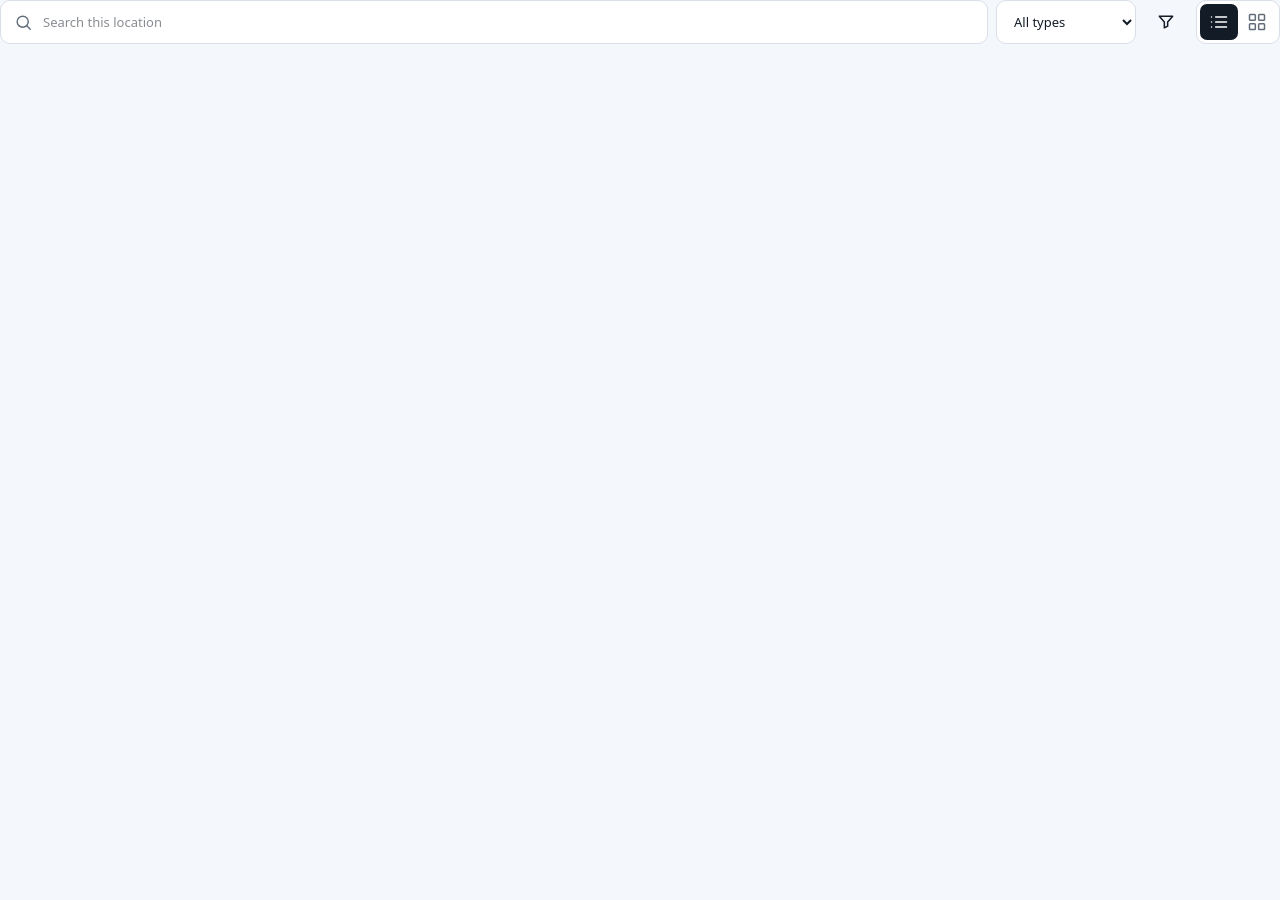
file discovery components › dismisses the centered filter modal without applying its draft
Click the button named "more filters" at (1166, 22), box [1144,0,1188,44]
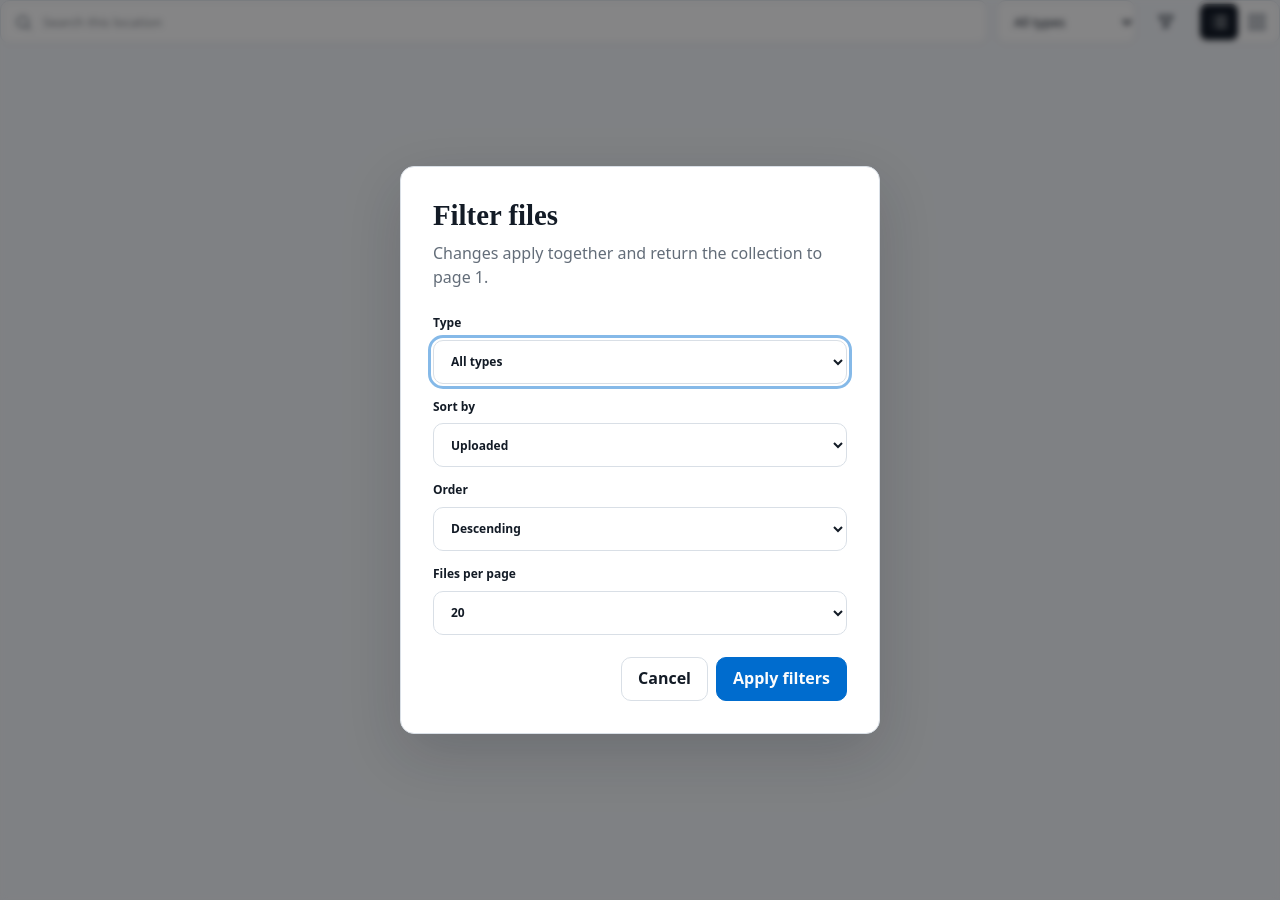
Select "10" in the dropdown labelled "Files per page" at (640, 612), box [433,590,847,634]
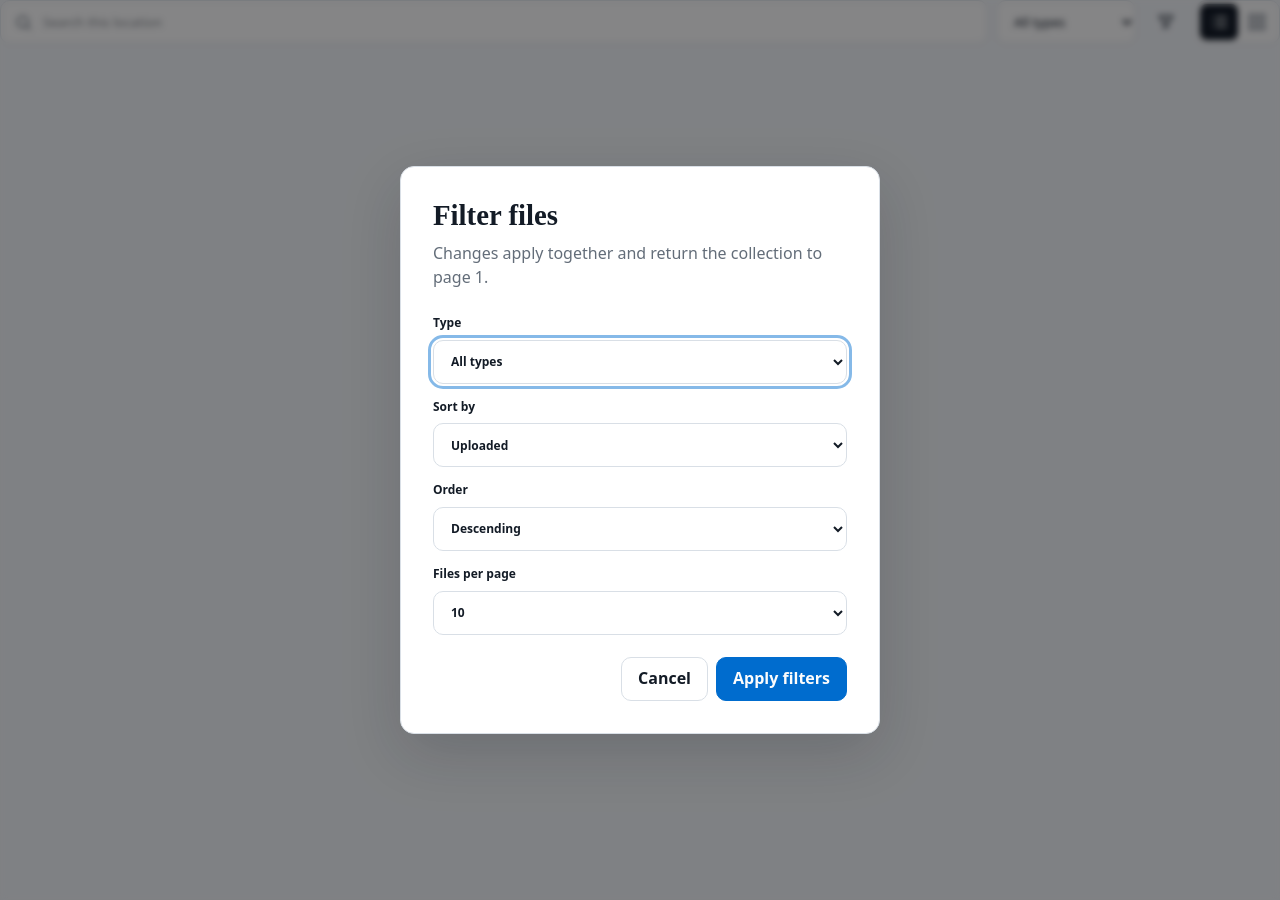
Click the button "Cancel" at (664, 678), box [621,656,708,700]
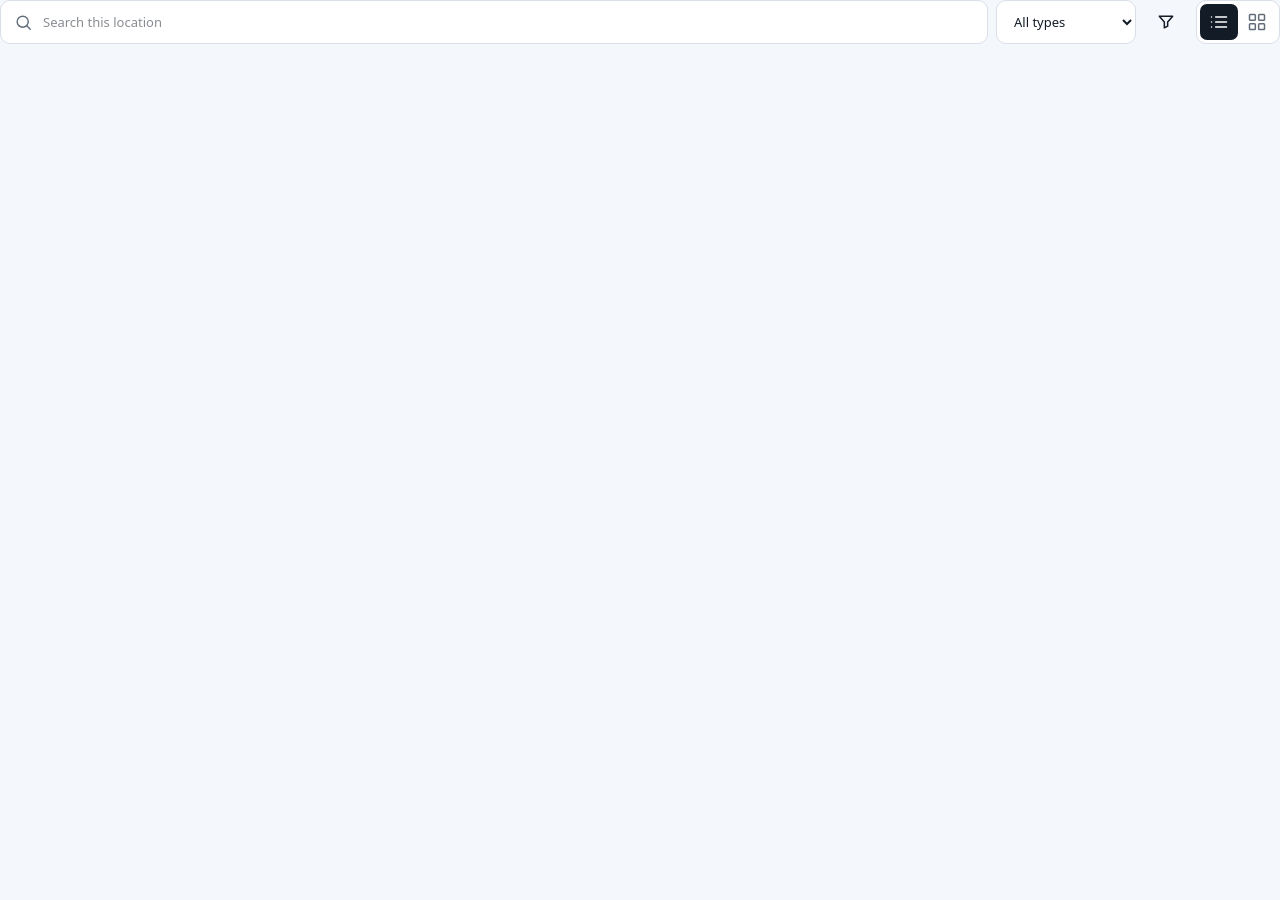
Result: the heading "Filter files" is gone
